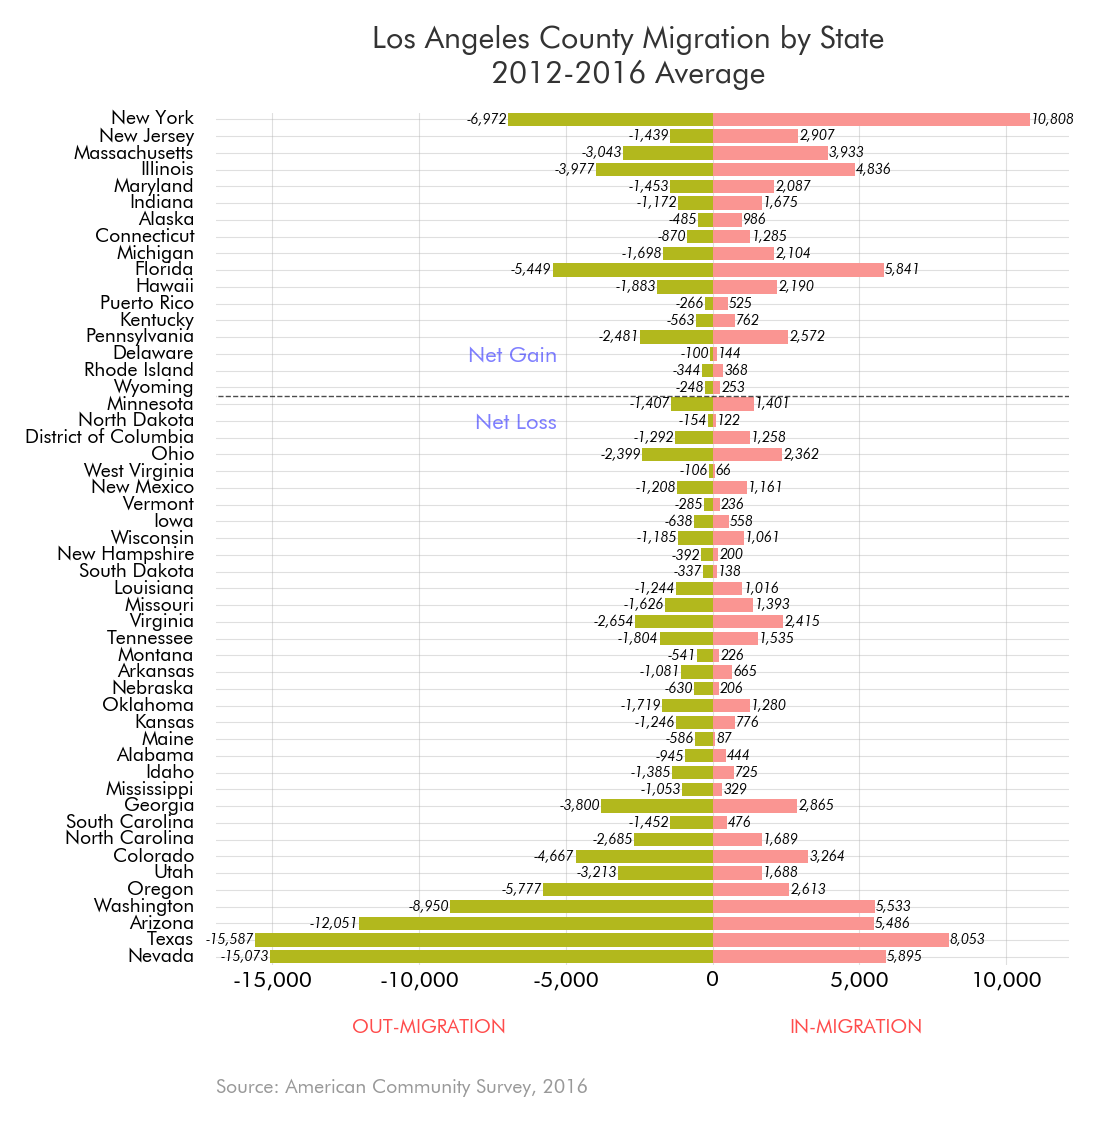

The page's visual inventory and layout, read from the dashboard file:
{"tool":"tableau","page":{"name":"Dashboard 1","canvas":[1000,700],"ordinal":0},"visuals":[{"type":"worksheet","title":"Sheet 1","mark":"Shape","rows":["Function"],"cols":["Chart Type"],"box":[7,10,934,584]},{"type":"worksheet","title":"column totals","mark":"Automatic","cols":["Chart Type"],"box":[166,608,777,31]}]}

Visuals, with their boxes on the page's 1000x700 design canvas (x1, y1, x2, y2). These are canvas units, not pixel positions in the 1099x1122 screenshot, which may show the page scaled, cropped or inside an application window:
"Sheet 1" worksheet (Shape marks): pyautogui.locateOnScreen(7, 10, 941, 594)
"column totals" worksheet: pyautogui.locateOnScreen(166, 608, 943, 639)
